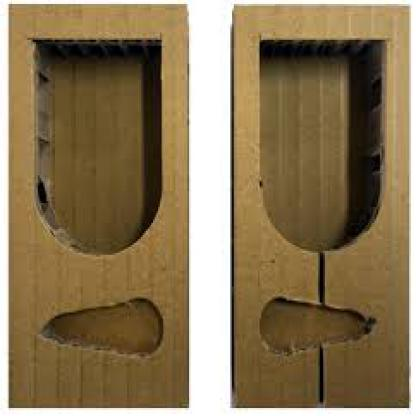CARDBOARD: (228, 2, 408, 406), (7, 4, 187, 406)
